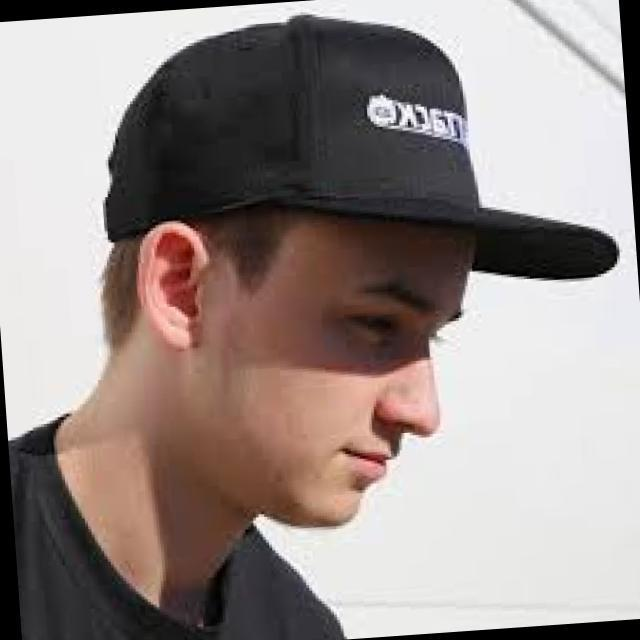cap: (65, 0, 638, 356)
